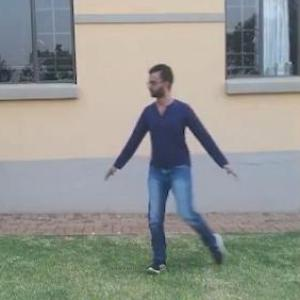land: (107, 71, 238, 243)
